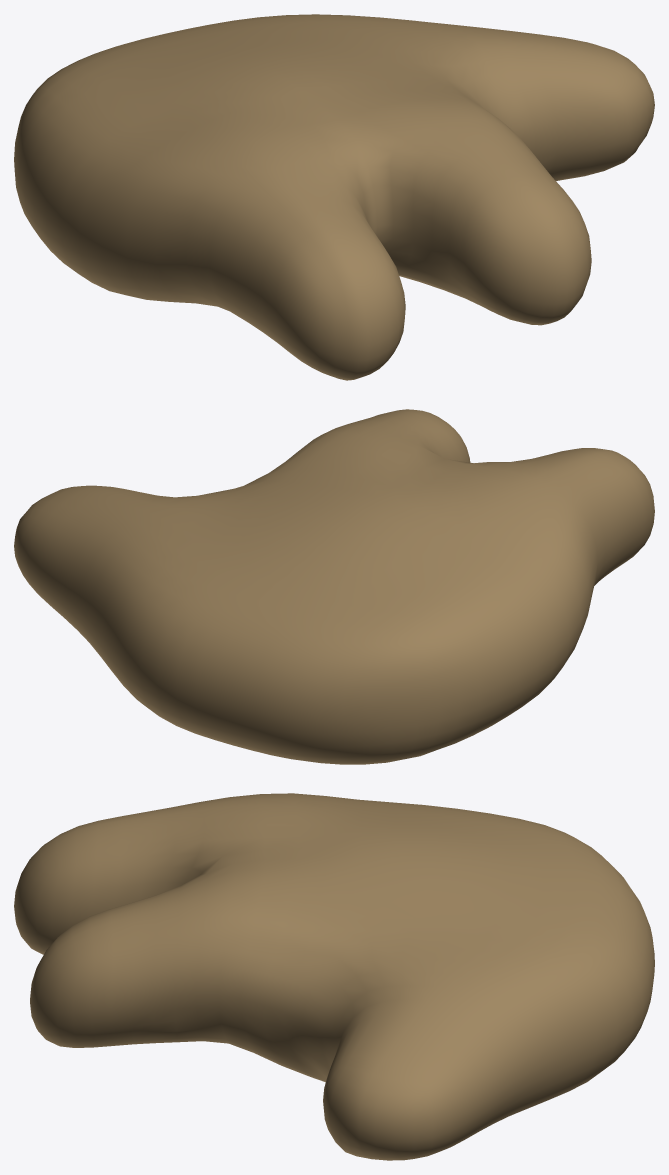
The model's file is right-hand.fbx.
3 views of the same model, one above another, from view 1: azimuth 30°, elevation 25°; view 2: azimuth 150°, elevation 25°; view 3: azimuth 270°, elevation 25° (orthographic). The views are drawn at different scales.
Visible parts, largest first — view 1: Right Hand; view 2: Right Hand; view 3: Right Hand.
Boxes of the visible parts, box(x1,y1,x2,y2) form: Right Hand: box(14, 14, 654, 380); Right Hand: box(14, 409, 654, 764); Right Hand: box(14, 793, 654, 1160).
Size of the model in its own units: 15.99 by 5.25 by 15.84.
